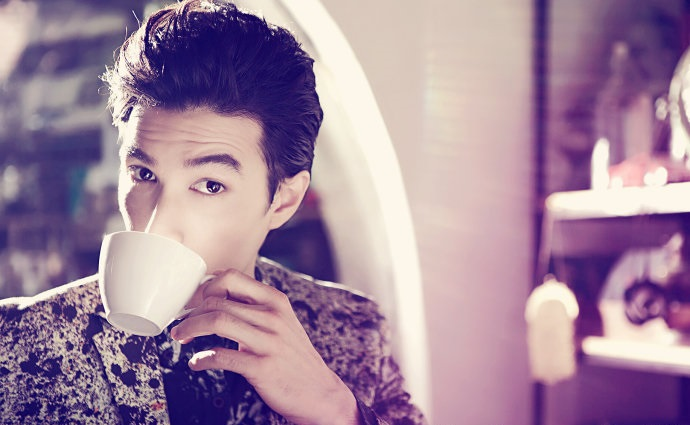face: (117, 101, 266, 297)
